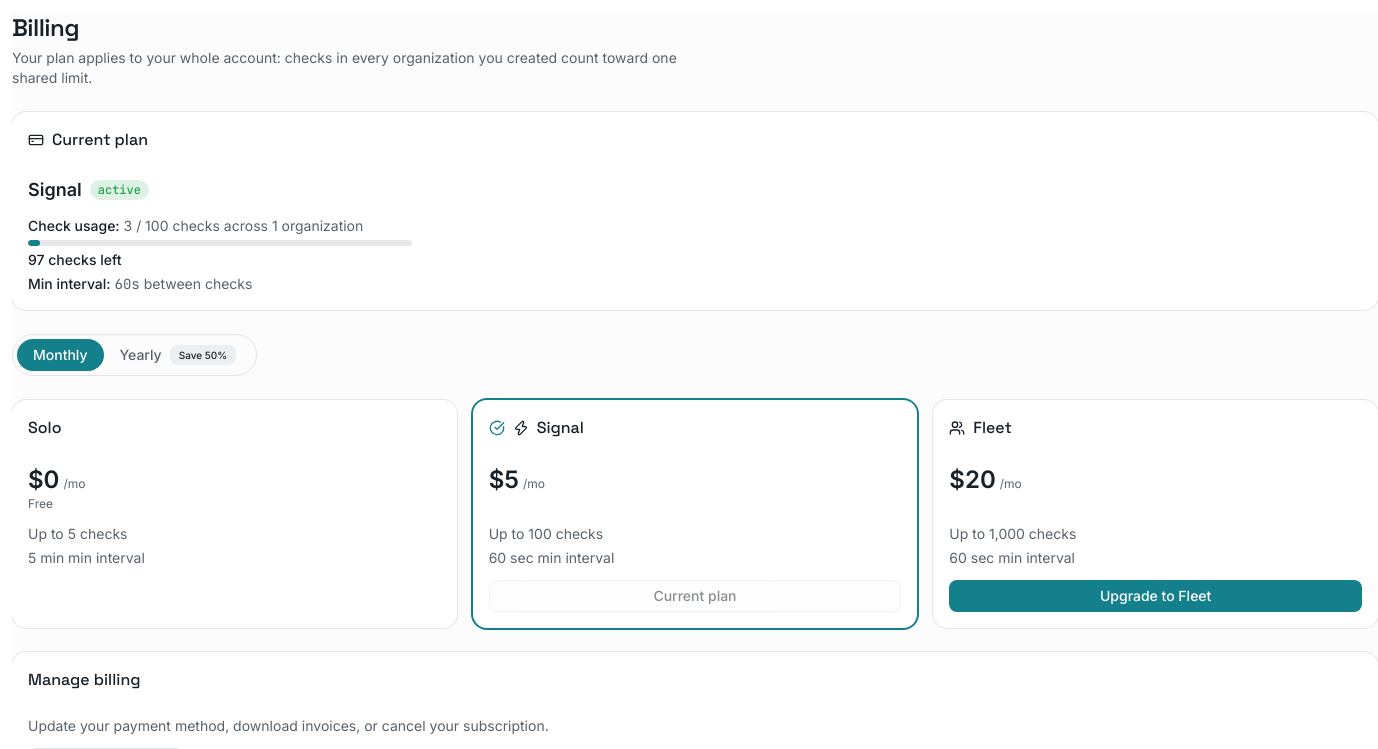
it: BillingPage › disables checkout, portal, and interval actions during any request
The width and height of the screenshot is (1378, 749).
Click the button "Upgrade to Fleet" at [1156, 596], box [949, 580, 1362, 612]
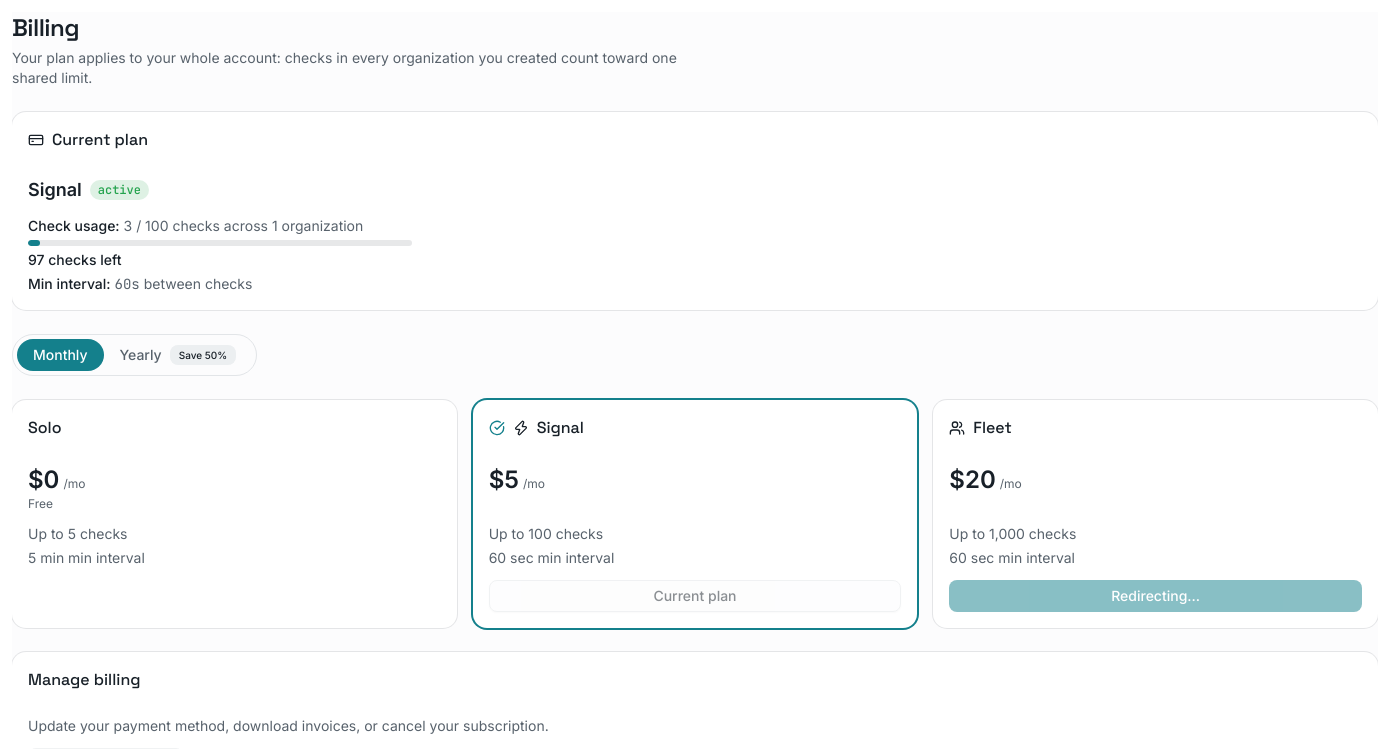
Expected: the button "Monthly" is disabled, [17, 339, 104, 371]
Expected: the button named "upgrade to fleet" is disabled, [949, 580, 1362, 612]
